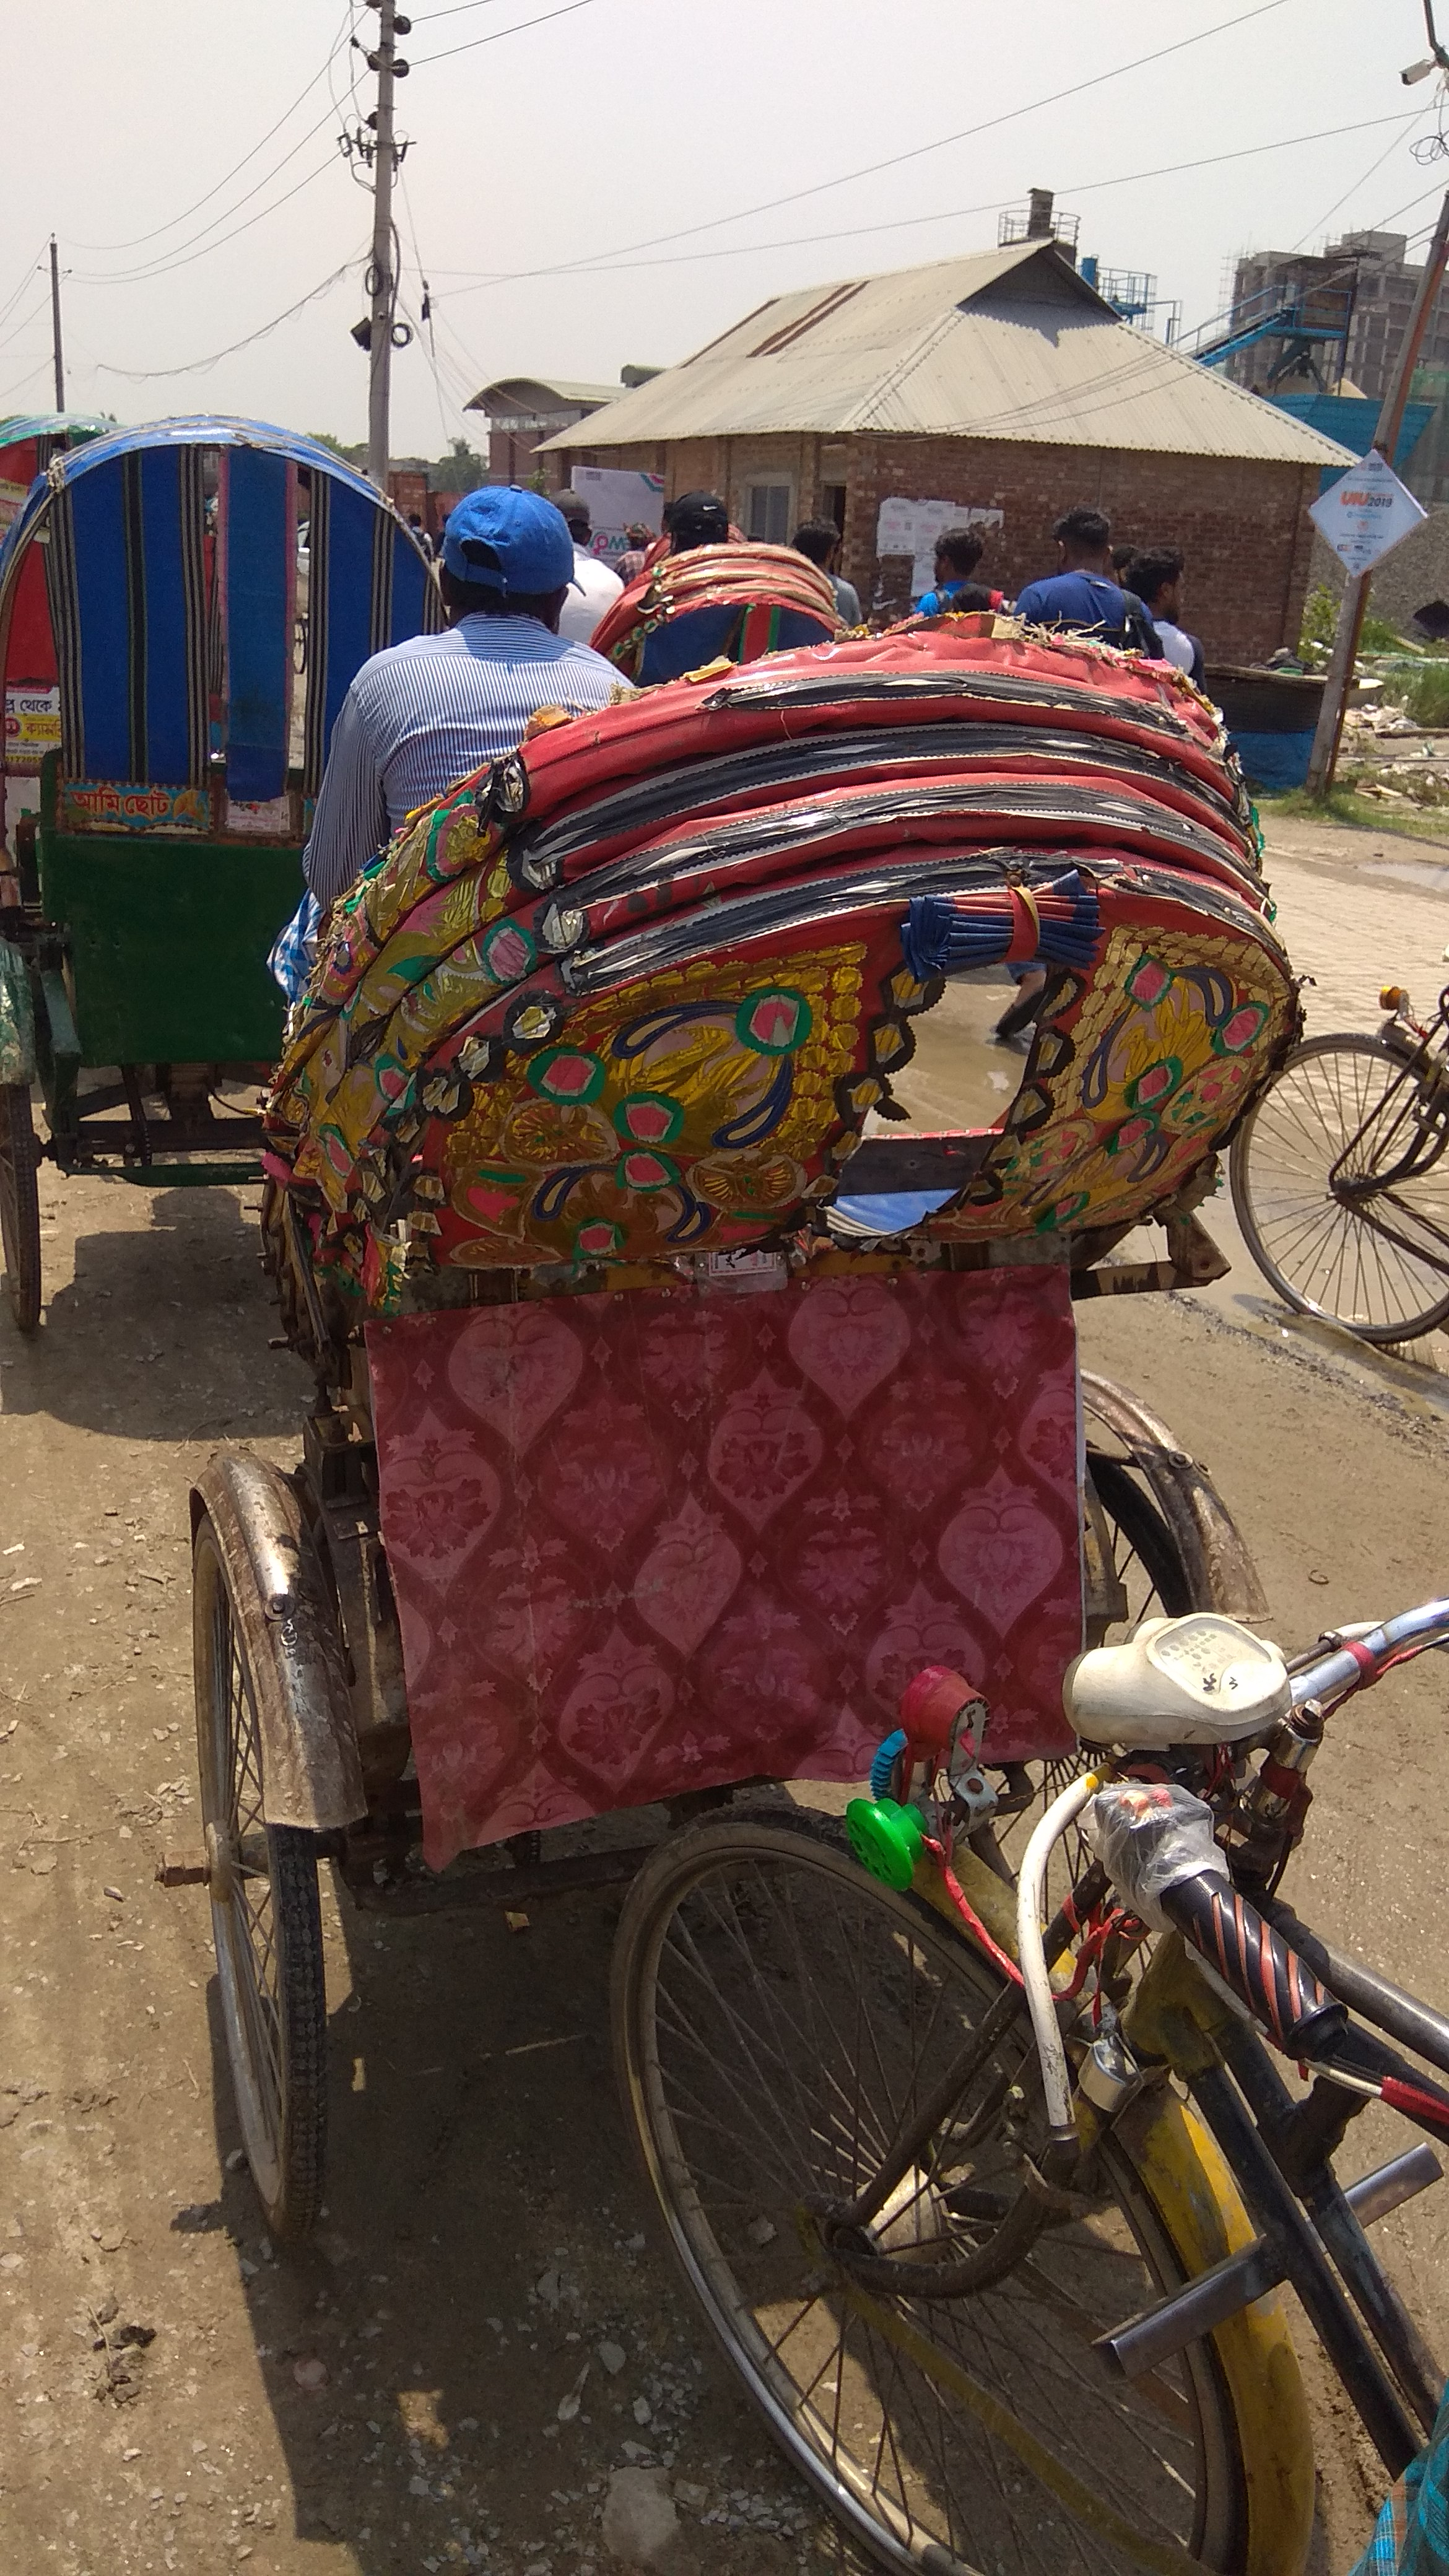Rickshaw: (249, 582, 1269, 2212), (16, 384, 425, 1270), (557, 472, 856, 731), (1269, 932, 1444, 1313)
